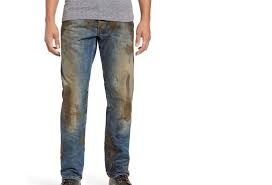earth: (60, 87, 74, 126), (104, 131, 114, 170), (123, 77, 132, 120), (127, 24, 133, 54), (109, 22, 117, 31)
